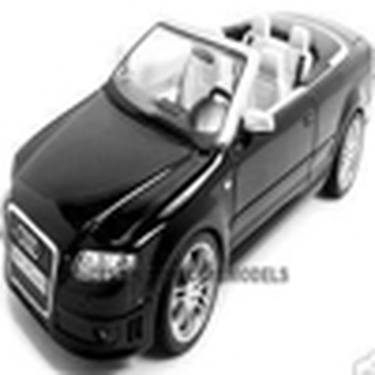car: (10, 13, 362, 355)
